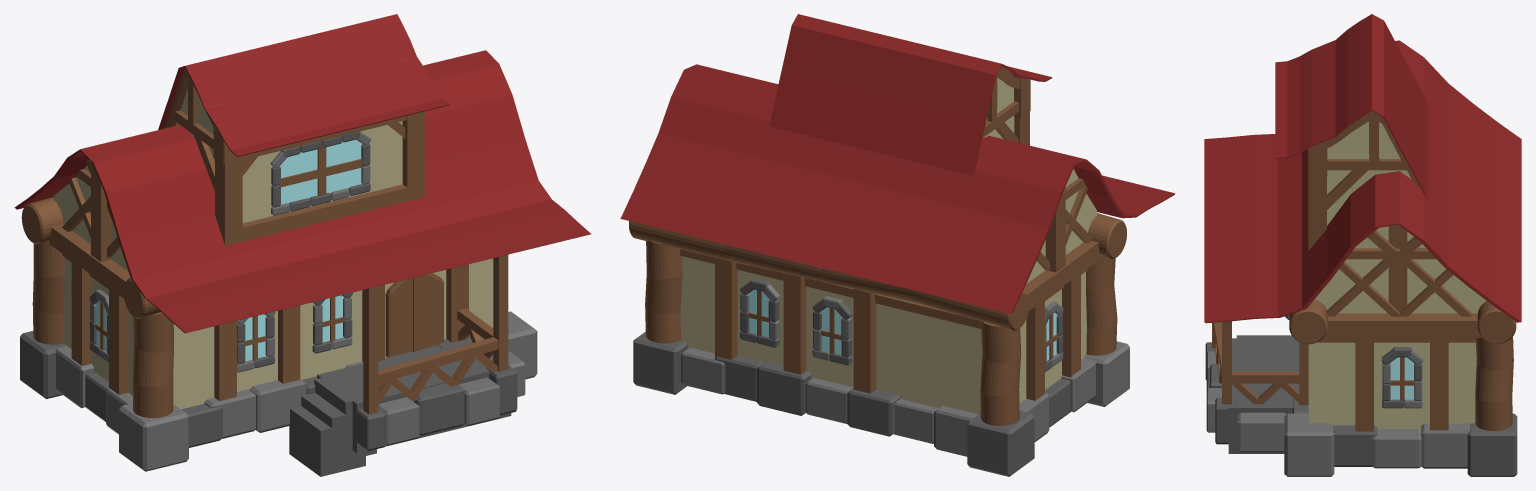
File: test_house3.fbx
3 views of the same model, side by side, from view 1: azimuth 30°, elevation 25°; view 2: azimuth 150°, elevation 25°; view 3: azimuth 270°, elevation 25° (orthographic). The views are drawn at different scales.
Parts seen in each view (by area): view 1: Cube.151; view 2: Cube.151; view 3: Cube.151.
Part boxes in pixels (box(x1,y1,x2,y2)): Cube.151: box(14, 14, 590, 476); Cube.151: box(620, 14, 1175, 476); Cube.151: box(1204, 14, 1521, 476).
Bounding box in the file's own units: 1161 × 1020 × 850.
